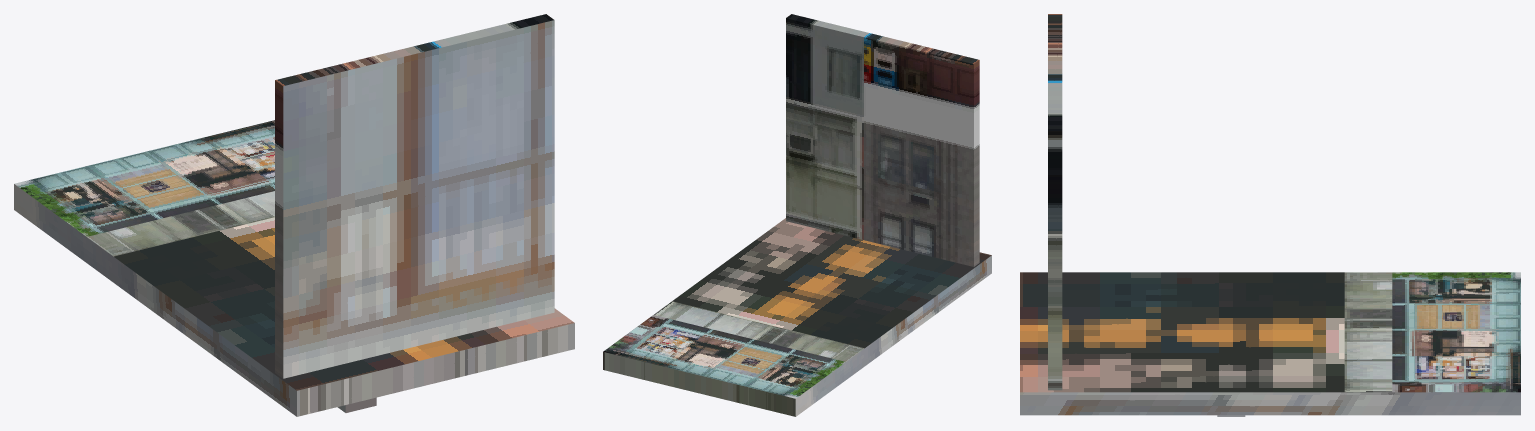
File: 098_lowrise2Wall.gltf
3 views of the same model, side by side, from view 1: azimuth 30°, elevation 25°; view 2: azimuth 150°, elevation 25°; view 3: azimuth 270°, elevation 25° (orthographic). The views are drawn at different scales.
Parts seen in each view (by area): view 1: lowrise2Wall; view 2: lowrise2Wall; view 3: lowrise2Wall.
Boxes of the visible parts, x1,y1,x2,y2 form: lowrise2Wall: (14, 14, 574, 416); lowrise2Wall: (603, 14, 991, 416); lowrise2Wall: (1020, 14, 1520, 416).
Size of the model in its own units: 4.09 by 4.71 by 7.21.
1 material, 1 textured.
